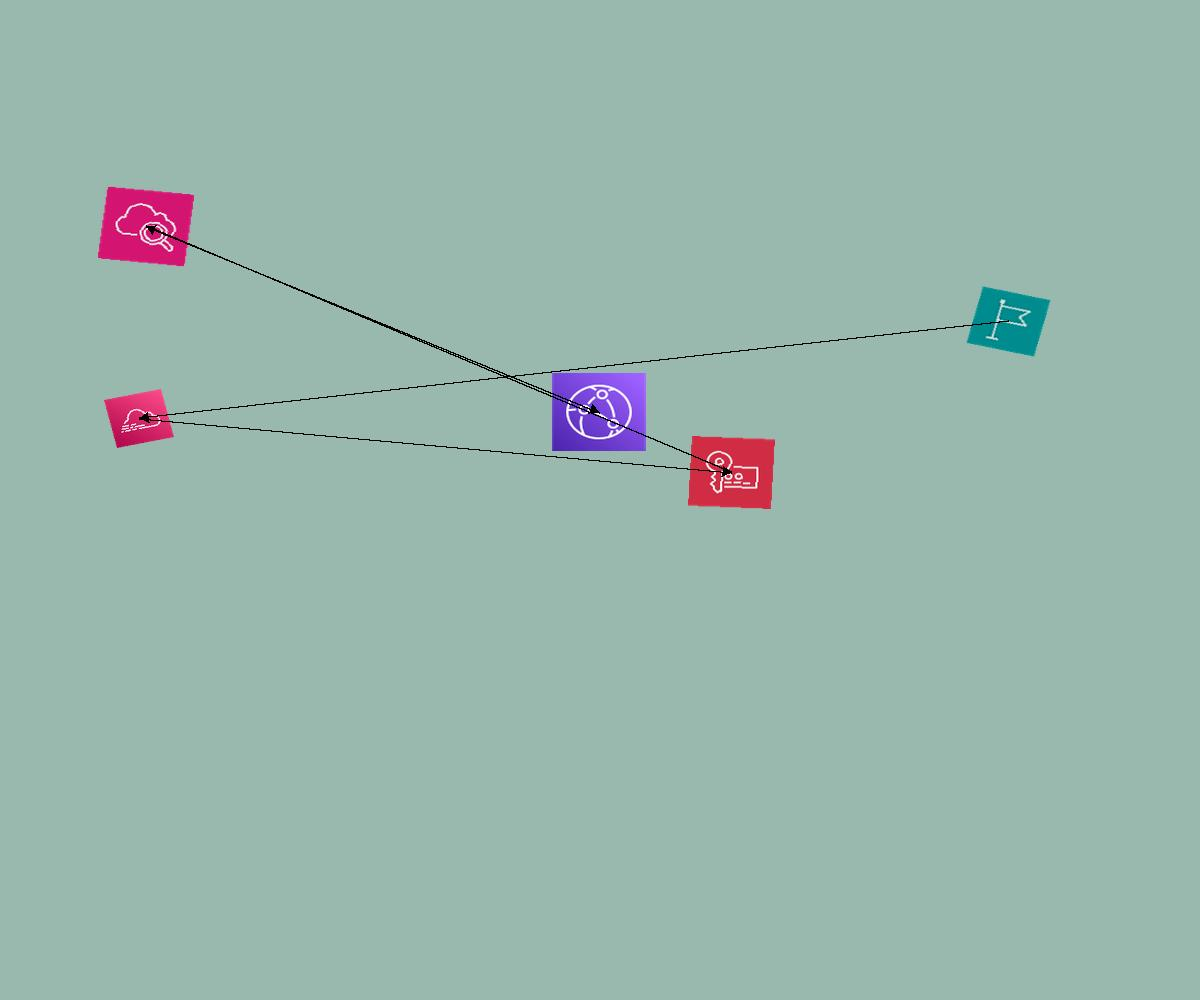AWS-CloudFront: (551, 372, 647, 452)
AWS-CloudTrail: (104, 389, 174, 448)
AWS-CloudWatch: (97, 186, 195, 267)
AWS-Key-Management-Service: (688, 436, 775, 509)
AWS-Region: (966, 286, 1051, 357)
